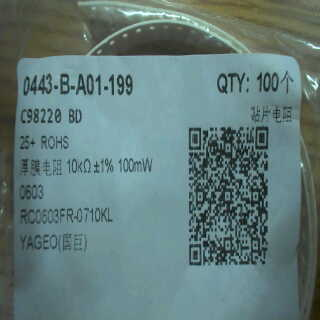10kR: (64, 157, 92, 178)
